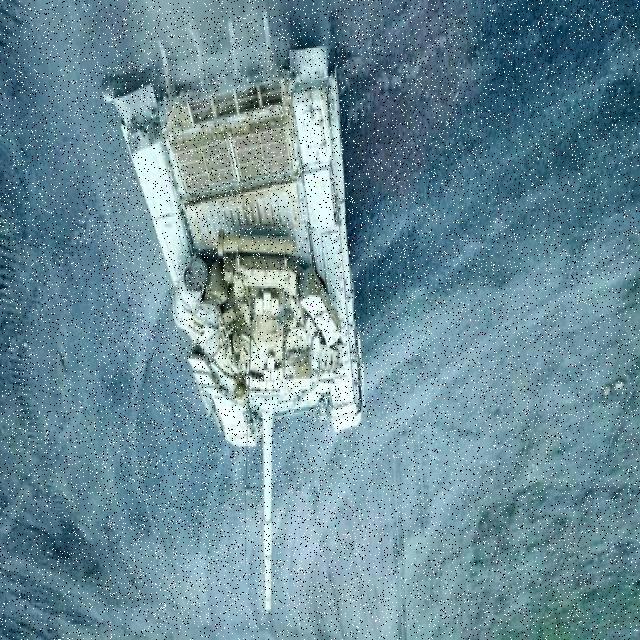MIL_MBT: (103, 9, 364, 615)
